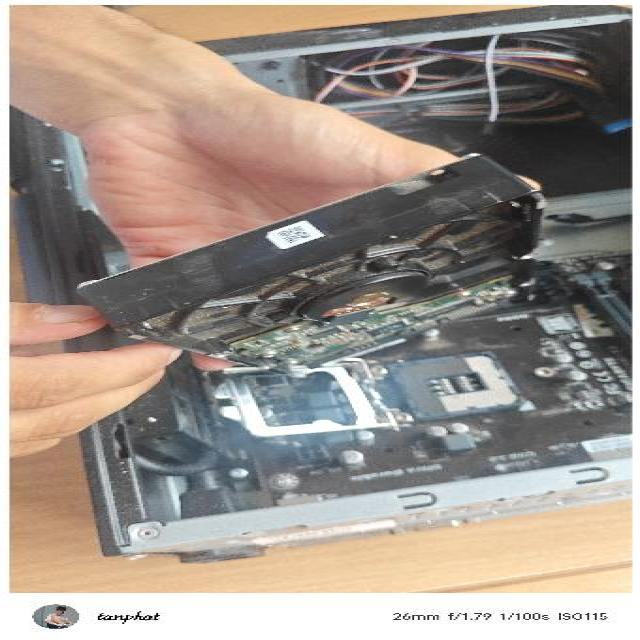DISK: (74, 152, 545, 378)
